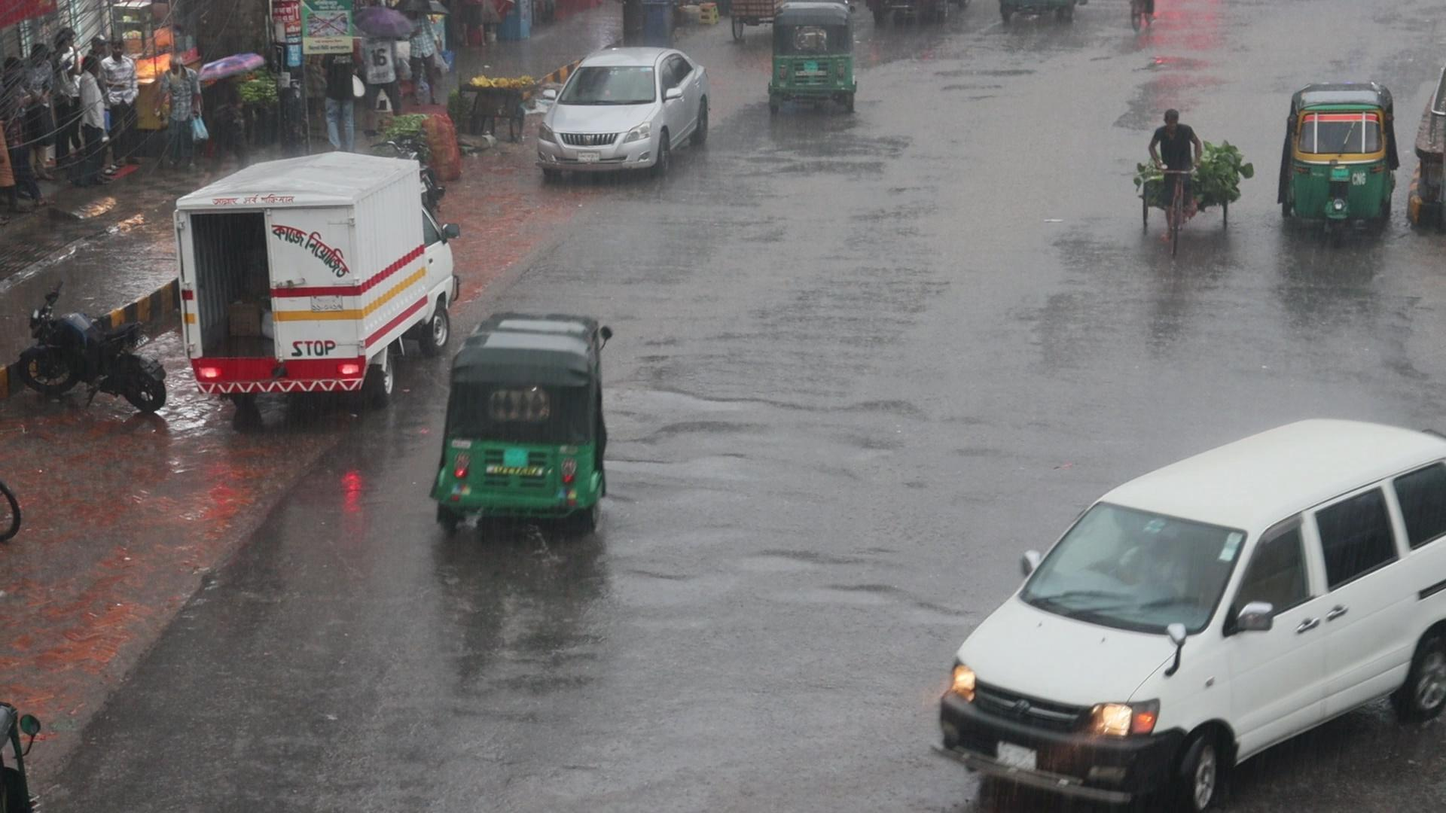Car: (928, 410, 1446, 813)
